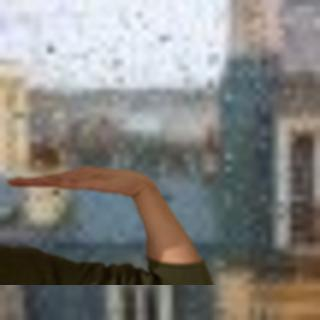WAIT: (4, 158, 154, 200)
